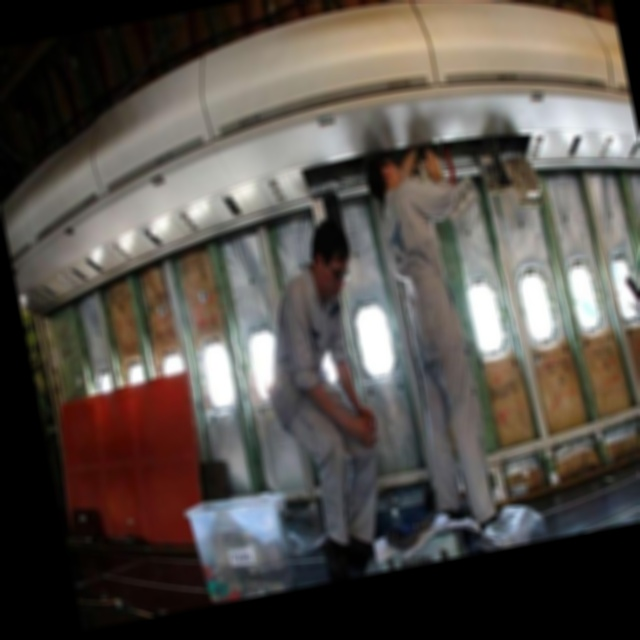Sin_Casco_Mascarrilla: (305, 213, 356, 297), (360, 146, 402, 196)
